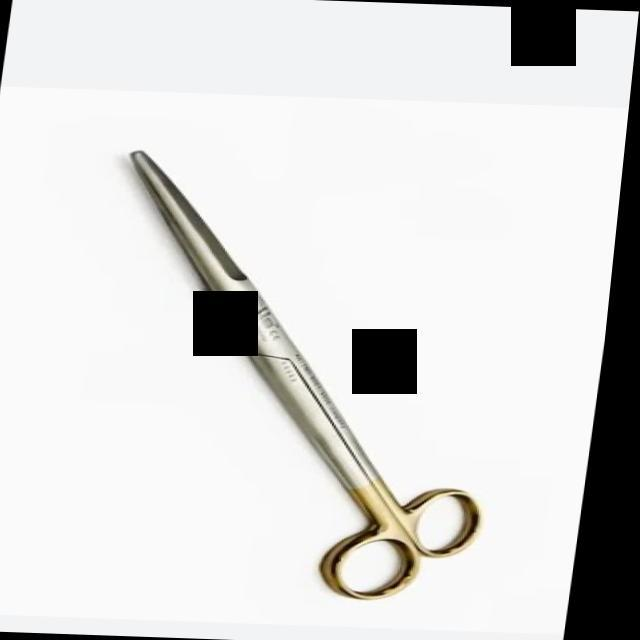Metzenbaum Sciccors: (70, 140, 553, 606)
